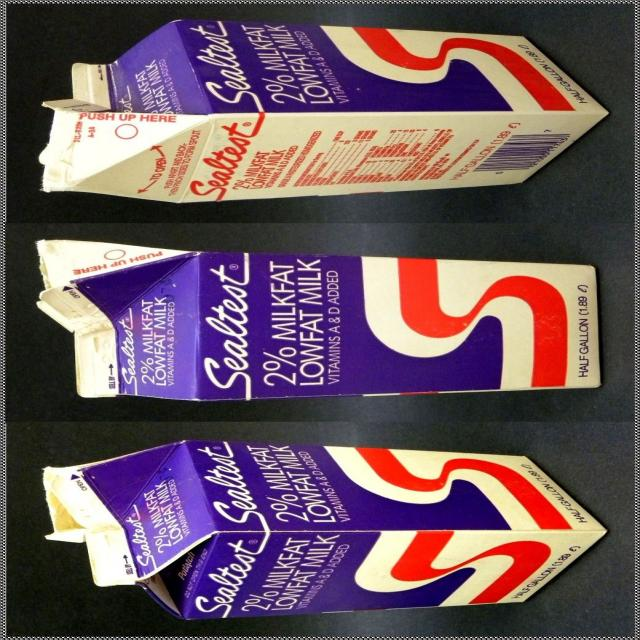non_white_jug: (22, 14, 615, 205), (27, 435, 613, 625), (29, 233, 609, 407)
